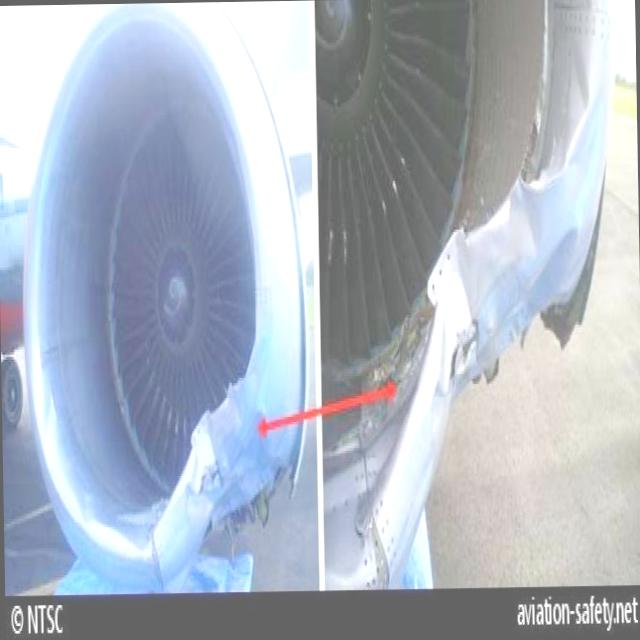dent: (542, 47, 606, 285), (222, 407, 272, 518), (438, 241, 488, 329), (431, 329, 454, 451), (506, 183, 541, 261)
